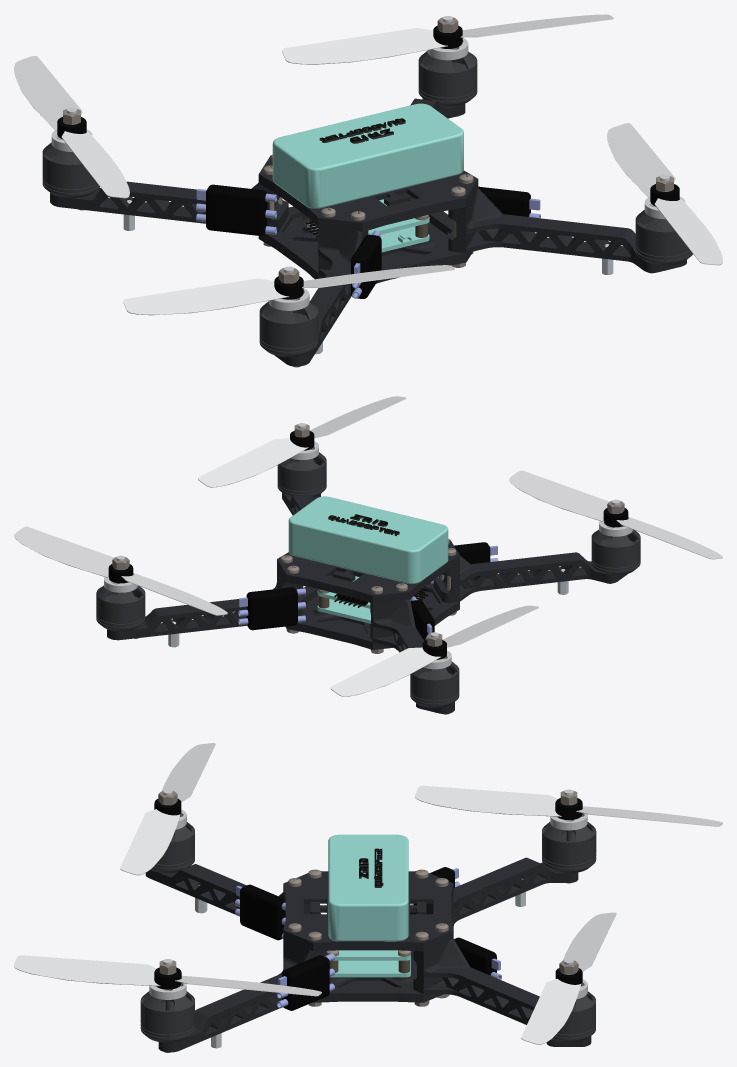
File: drone.glb
The picture shows the model from 3 angles, top to bottom: view 1: azimuth 30°, elevation 25°; view 2: azimuth 150°, elevation 25°; view 3: azimuth 270°, elevation 25°; orthographic projection. The views are drawn at different scales.
Parts seen in each view (by area): view 1: NAUO69, NAUO54, NAUO29, NAUO23, NAUO13, NAUO30, NAUO28, NAUO1, NAUO52, NAUO12, NAUO66, NAUO18 (+8 smaller); view 2: NAUO69, NAUO12, NAUO13, NAUO23, NAUO29, NAUO30, NAUO28, NAUO53, NAUO1, NAUO52, NAUO67, NAUO18 (+6 smaller); view 3: NAUO69, NAUO13, NAUO53, NAUO28, NAUO30, NAUO29, NAUO23, NAUO54, NAUO52, NAUO1, NAUO12, NAUO49 (+10 smaller).
Boxes of the visible parts, x1,y1,x2,y2 form: NAUO69: (272, 103, 463, 208); NAUO54: (448, 188, 686, 272); NAUO29: (282, 14, 613, 64); NAUO23: (123, 265, 454, 315); NAUO13: (258, 155, 478, 231); NAUO30: (607, 123, 722, 265); NAUO28: (14, 56, 129, 198); NAUO1: (258, 197, 472, 283); NAUO52: (50, 181, 288, 231); NAUO12: (274, 227, 368, 366); NAUO66: (196, 184, 277, 235); NAUO18: (259, 301, 318, 357); NAUO69: (288, 496, 448, 583); NAUO12: (433, 552, 627, 602); NAUO13: (277, 539, 459, 603); NAUO23: (509, 470, 722, 559); NAUO29: (14, 526, 227, 615); NAUO30: (198, 396, 406, 487); NAUO28: (330, 605, 538, 696); NAUO53: (107, 567, 303, 640); NAUO1: (285, 575, 459, 649); NAUO52: (370, 599, 454, 714); NAUO67: (238, 587, 305, 630); NAUO18: (591, 529, 640, 575); NAUO69: (328, 834, 408, 941); NAUO13: (283, 871, 453, 951); NAUO53: (413, 939, 591, 1046); NAUO28: (415, 785, 722, 826); NAUO30: (14, 955, 321, 996); NAUO29: (521, 912, 616, 1044); NAUO23: (120, 743, 215, 875); NAUO54: (158, 939, 326, 1052); NAUO52: (416, 857, 578, 928); NAUO1: (313, 951, 442, 1002); NAUO12: (145, 864, 321, 914); NAUO49: (542, 822, 596, 873).
Bounding box in the file's own units: 0.3 × 0.0505 × 0.3.
